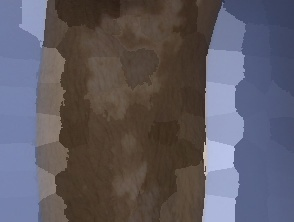vitiligo: (66, 0, 214, 222)
